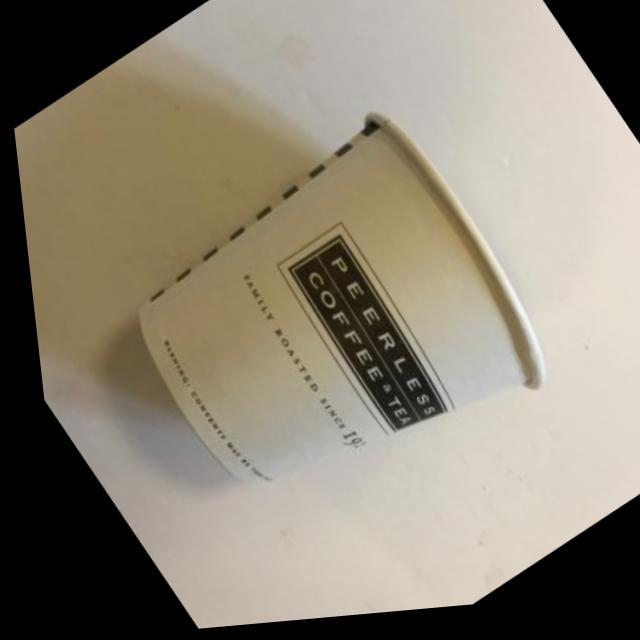trash: (4, 3, 640, 640)
